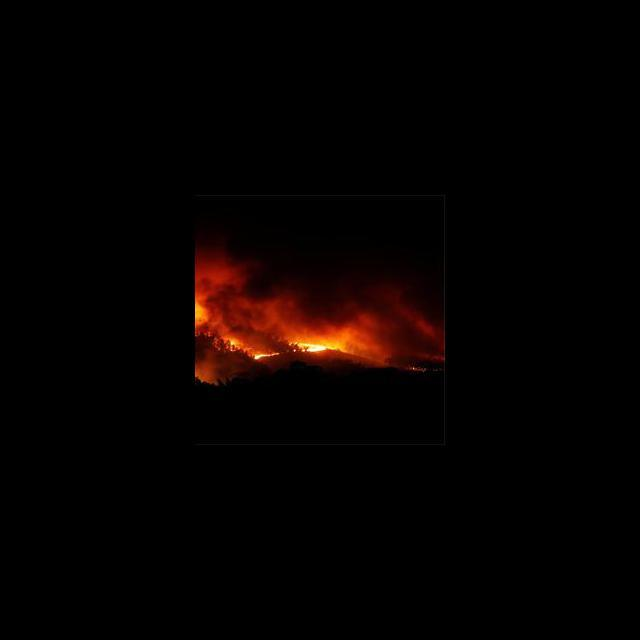Fire: (252, 333, 337, 361)
